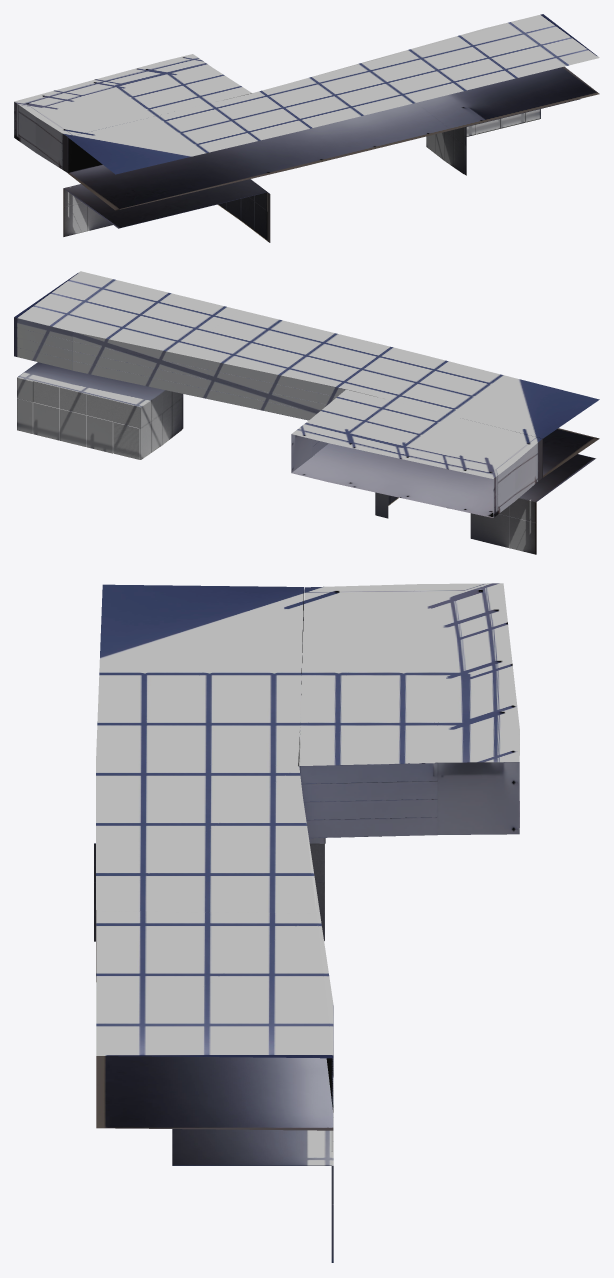
The model's file is Boxes.glb.
The picture shows the model from 3 angles, top to bottom: view 1: azimuth 30°, elevation 25°; view 2: azimuth 150°, elevation 25°; view 3: azimuth 270°, elevation 25°; orthographic projection. The views are drawn at different scales.
Parts seen in each view (by area): view 1: Boxes_Baked; view 2: Boxes_Baked; view 3: Boxes_Baked.
Boxes of the visible parts, left/top/right/bottom form: Boxes_Baked: left=14, top=14, right=599, bottom=242; Boxes_Baked: left=14, top=271, right=599, bottom=554; Boxes_Baked: left=94, top=583, right=519, bottom=1262.
Bounding box in the file's own units: 49.91 × 10.19 × 18.91.
Materials: 1 (1 with a texture image).
